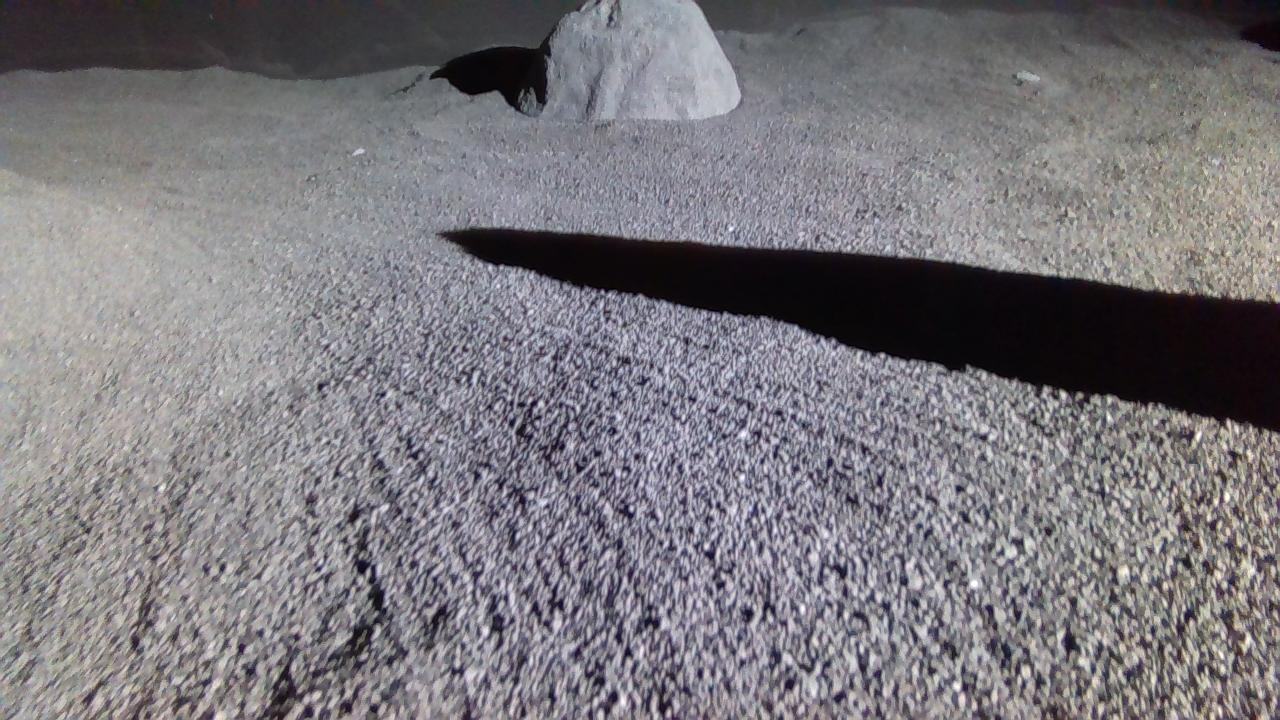rock: (517, 0, 741, 119)
